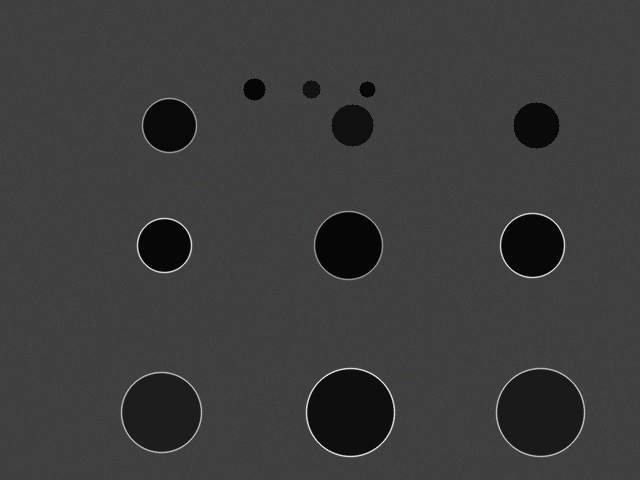hole: (306, 368, 394, 456), (496, 368, 584, 456), (121, 372, 201, 452), (314, 211, 382, 279), (500, 213, 564, 277), (142, 98, 196, 152), (137, 218, 191, 272), (513, 102, 559, 148), (331, 104, 373, 146), (243, 78, 265, 100), (302, 80, 320, 98), (359, 81, 375, 97)
